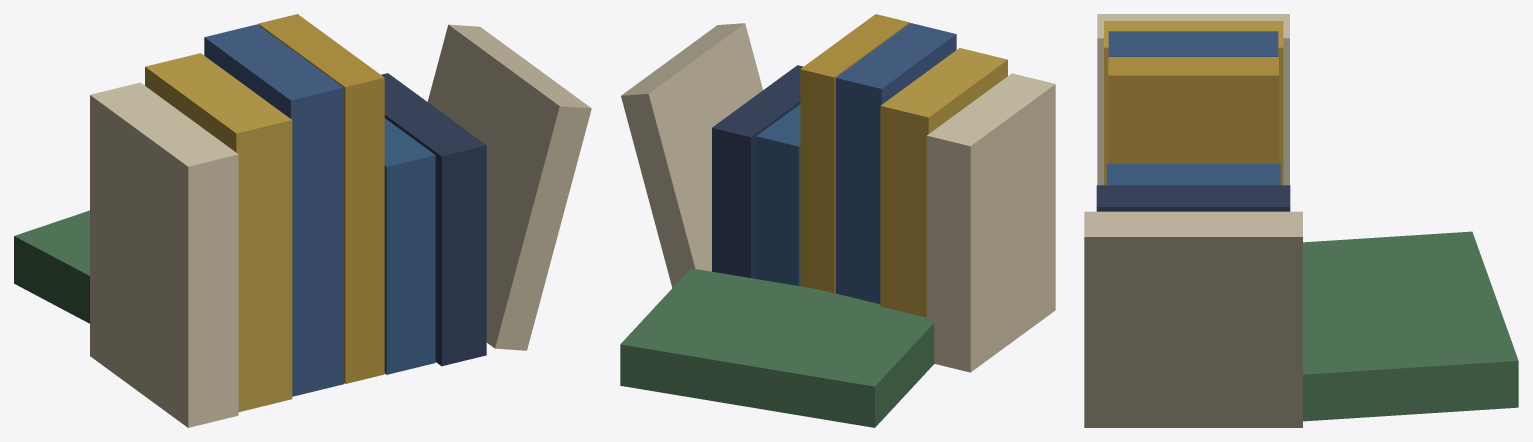
File: book-stack-08.glb
3 views of the same model, side by side, from view 1: azimuth 30°, elevation 25°; view 2: azimuth 150°, elevation 25°; view 3: azimuth 270°, elevation 25° (orthographic). The views are drawn at different scales.
Visible parts, largest first — view 1: book_stack_08; view 2: book_stack_08; view 3: book_stack_08.
Part boxes in pixels (x1,y1,x2,y2): book_stack_08: [14, 14, 591, 427]; book_stack_08: [620, 14, 1055, 427]; book_stack_08: [1084, 14, 1518, 427].
Size of the model in its own units: 0.3484 by 0.2489 by 0.3367.
